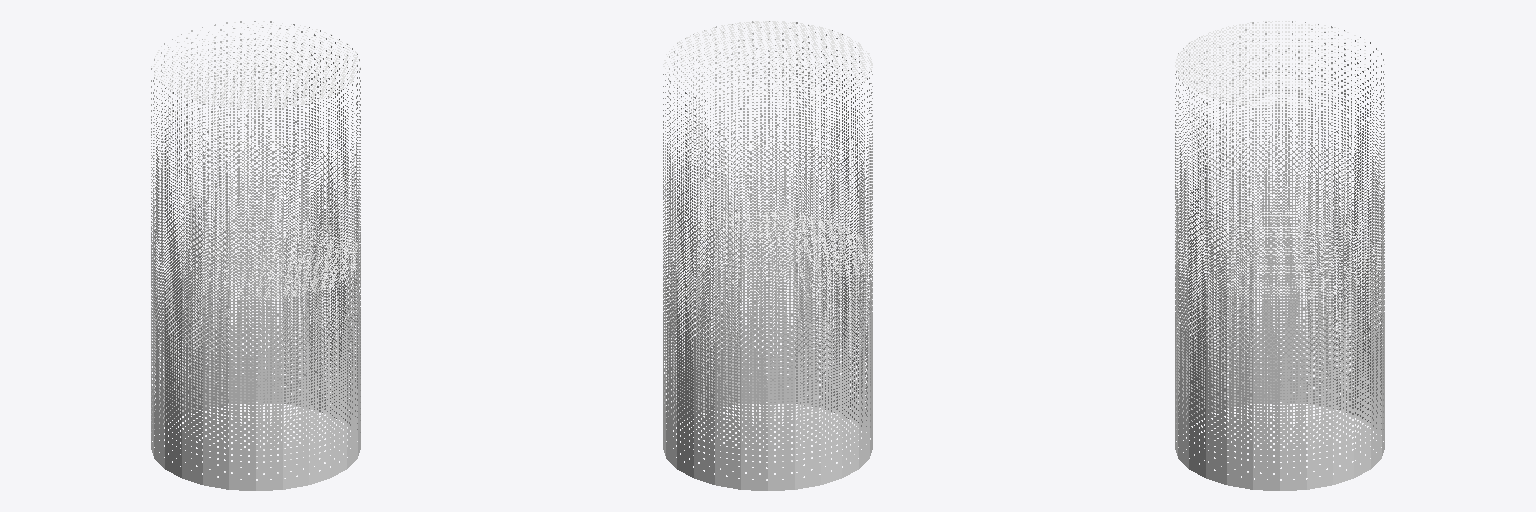
3 renders of one model, left to right at view 1: azimuth 30°, elevation 25°; view 2: azimuth 150°, elevation 25°; view 3: azimuth 270°, elevation 25°, orthographic.
Visible parts, largest first — view 1: entity0_brush1, entity0_brush0; view 2: entity0_brush1, entity0_brush0; view 3: entity0_brush1, entity0_brush0.
Part boxes in pixels (left/top/right/bottom): entity0_brush1: left=151, top=212, right=360, bottom=490; entity0_brush0: left=151, top=21, right=360, bottom=299; entity0_brush1: left=663, top=212, right=872, bottom=490; entity0_brush0: left=663, top=21, right=872, bottom=299; entity0_brush1: left=1175, top=212, right=1384, bottom=490; entity0_brush0: left=1175, top=21, right=1384, bottom=299.
Size of the model in its own units: 64 by 128 by 64.
Materials: 1 (1 with a texture image).